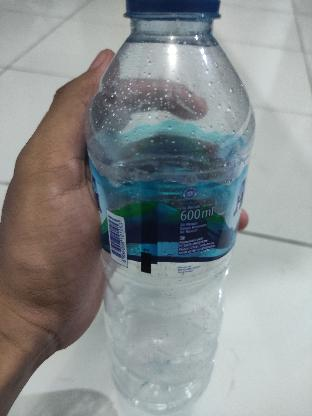Plastic Bottle: (65, 0, 262, 416)
